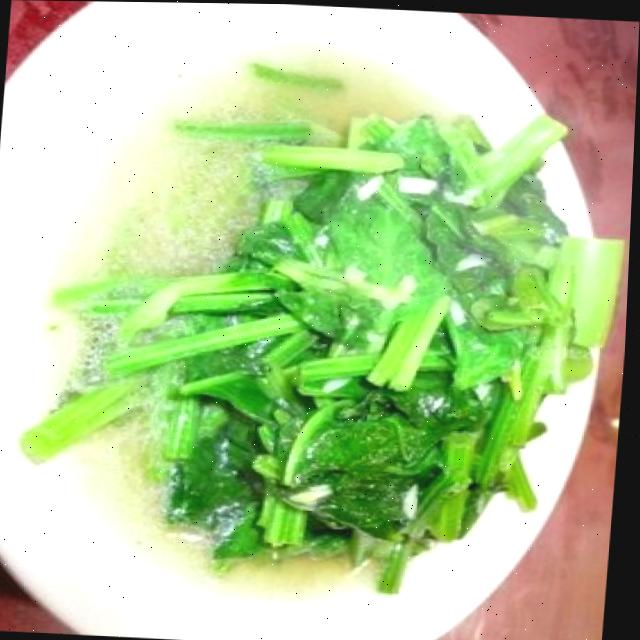蔬菜料理: (0, 25, 639, 640)
